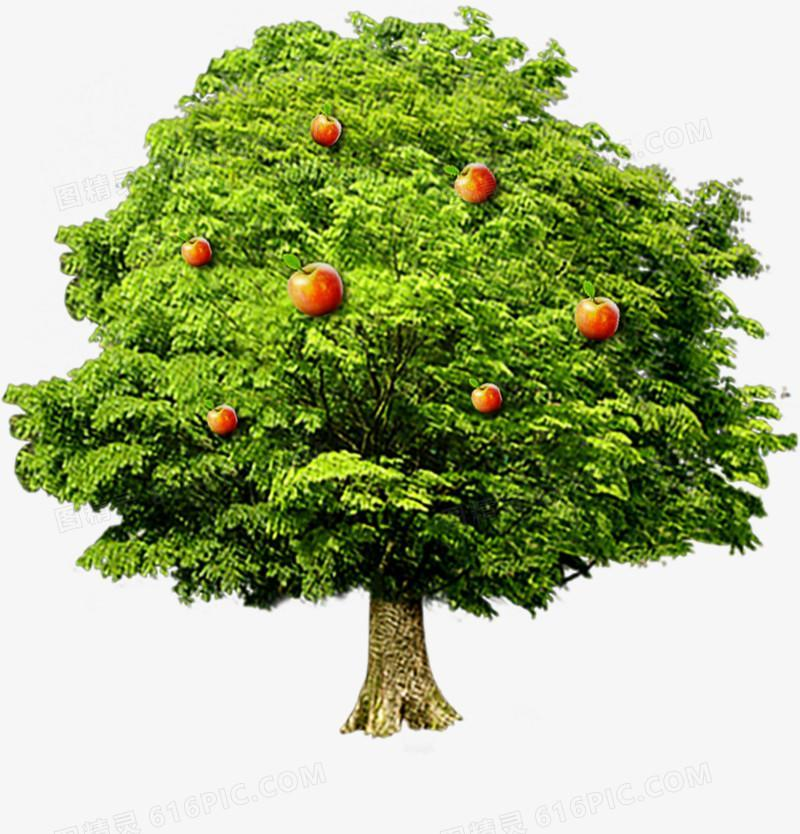apple: (286, 264, 343, 318), (573, 298, 619, 343), (453, 164, 496, 206), (205, 403, 236, 434), (472, 383, 503, 414), (311, 114, 341, 143), (182, 237, 212, 266)
